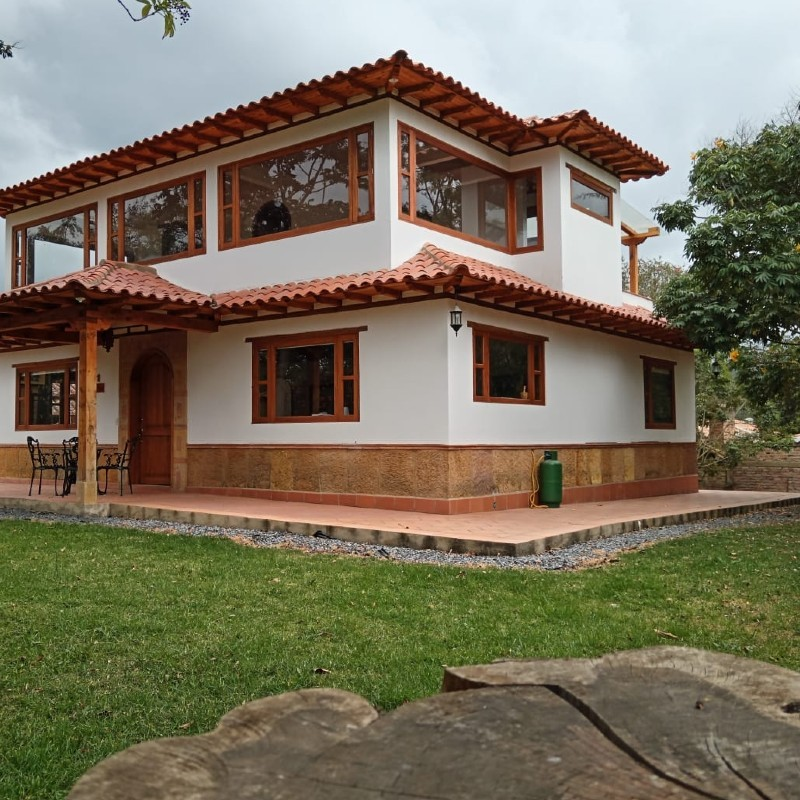House: (15, 53, 701, 501)
